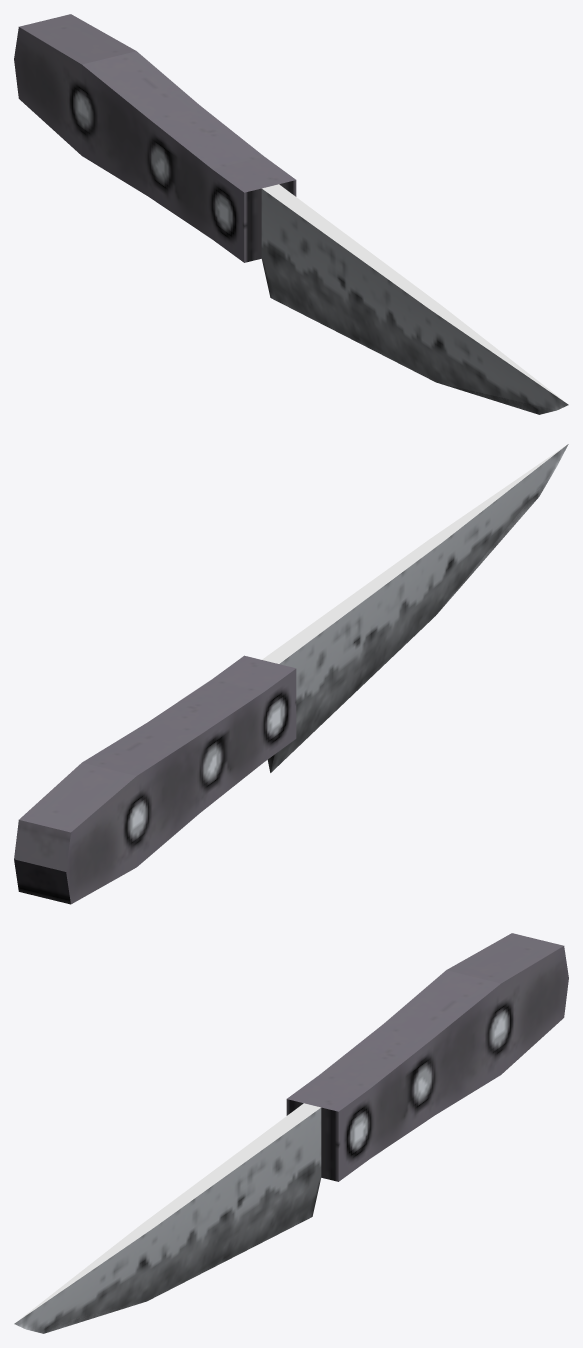
The model's file is Knife.fbx.
3 renders of one model, top to bottom at view 1: azimuth 30°, elevation 25°; view 2: azimuth 150°, elevation 25°; view 3: azimuth 330°, elevation 25°, orthographic.
Parts seen in each view (by area): view 1: polySurface9; view 2: polySurface9; view 3: polySurface9.
Boxes of the visible parts, bbox=[...] form: polySurface9: bbox=[14, 14, 568, 414]; polySurface9: bbox=[14, 444, 568, 904]; polySurface9: bbox=[14, 933, 568, 1333].
Bounding box in the file's own units: 2.53 × 5.37 × 42.15.
